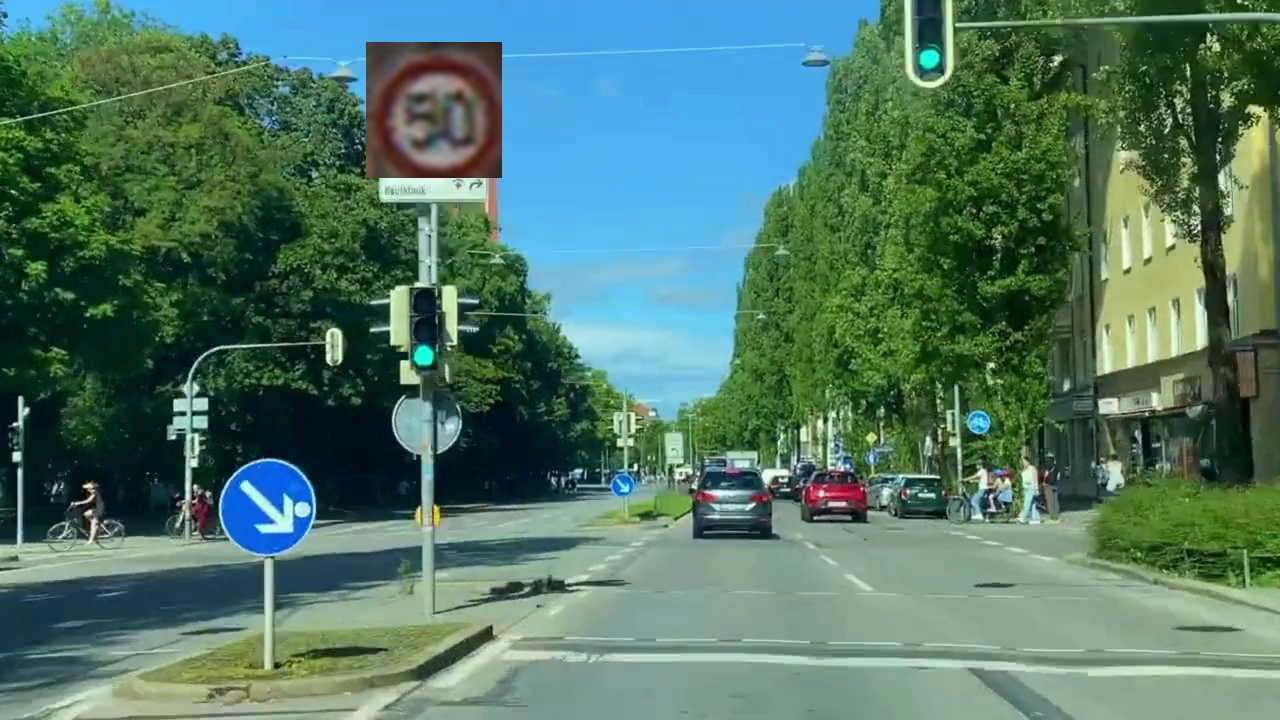Speed 50: (366, 42, 502, 178)
